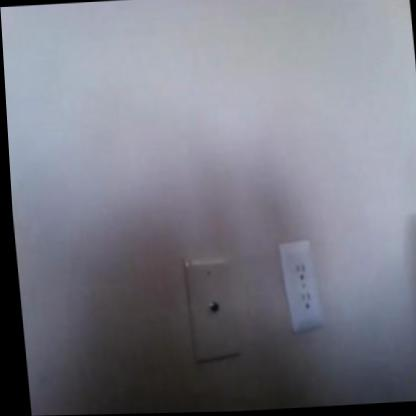OUTLET: (279, 241, 324, 332)
